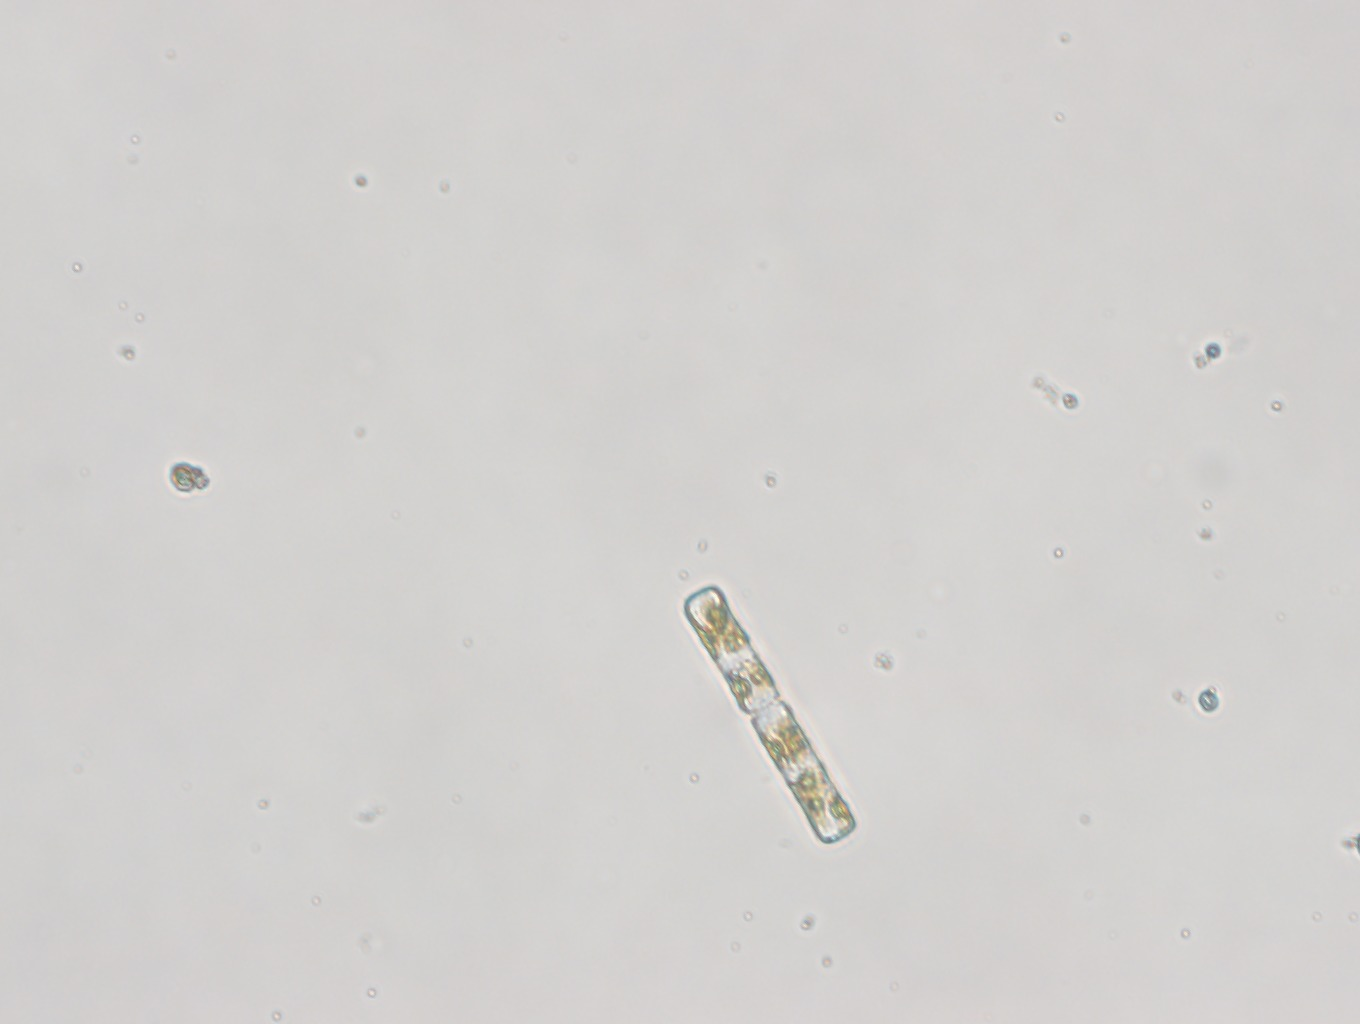helicotheca: (657, 584, 877, 849)
